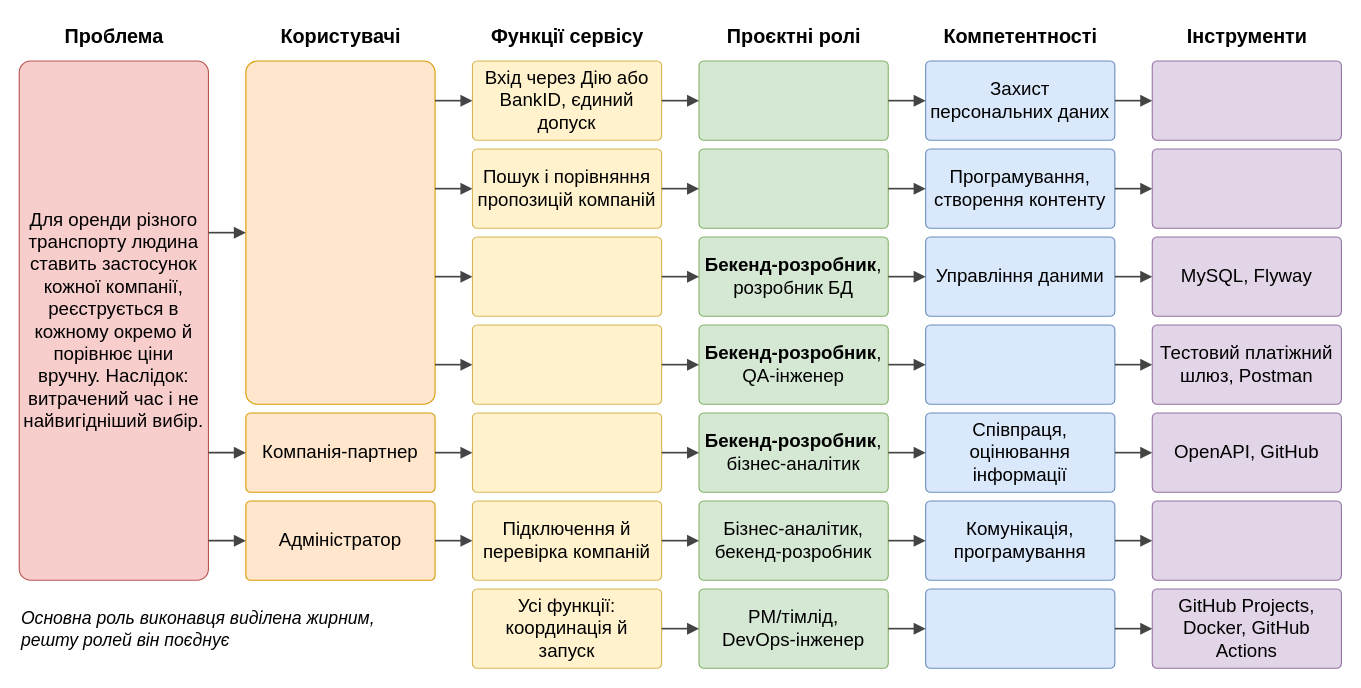
Image size: 1361x688. Some labels were removed from this diagram. Each missing label, with the centre of its shape:
API і кабінет компанії: [566,452]
Google Forms, Spring Boot: [1246,540]
Spring Boot, Figma: [1246,188]
Spring Security, OWASP ZAP: [1246,100]
Бекенд-розробник , UI/UX-дизайнер: [793,188]
Бекенд-розробник , інженер безпеки: [793,100]
Бронювання транспорту: [566,276]
Навчання, вибір технологій під потребу: [1020,628]
Оплата й чек: [566,364]
Орендар: [340,232]
Розв'язання технічних проблем: [1020,364]
